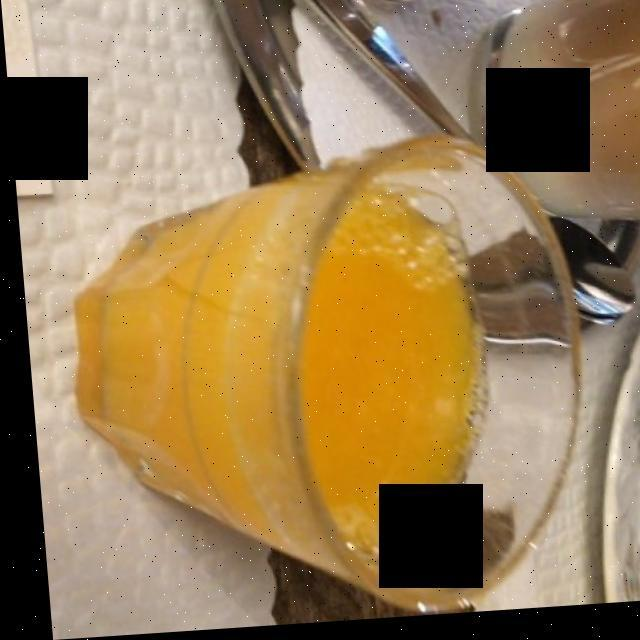juice: (76, 180, 479, 566)
